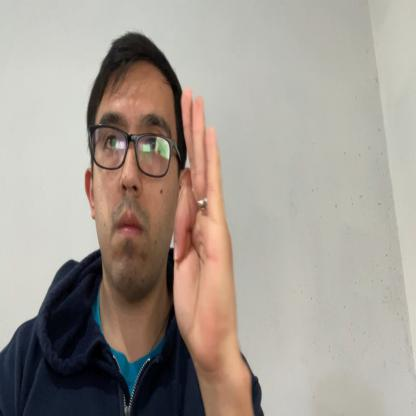F: (173, 90, 236, 374)
